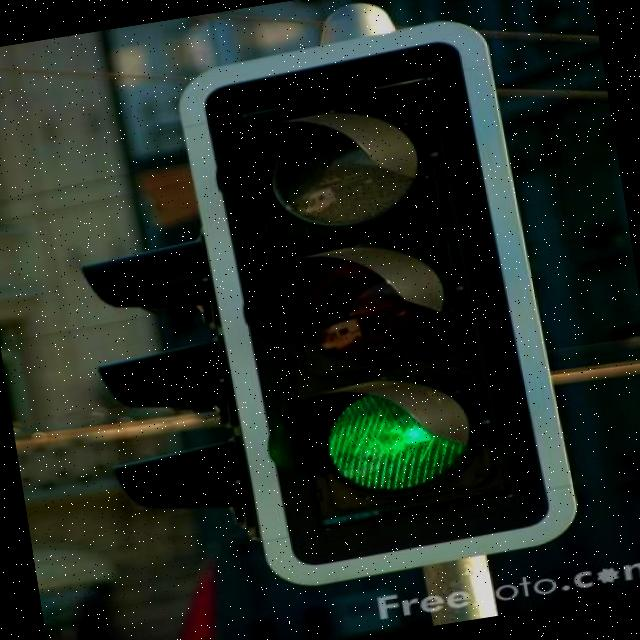Zielone swiatlo: (192, 40, 550, 569)
